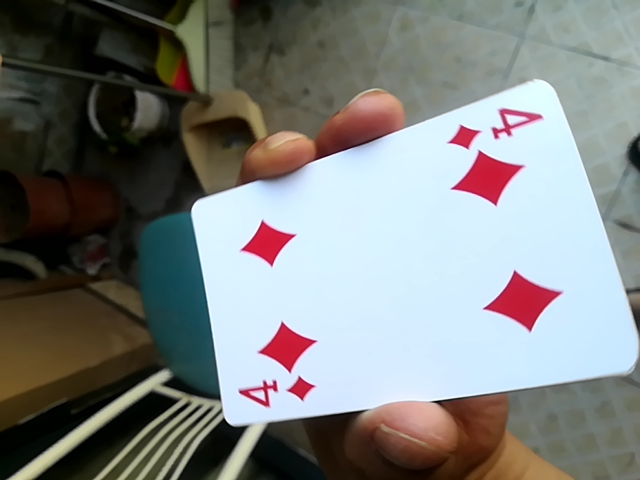fk 4: (173, 89, 640, 433)
